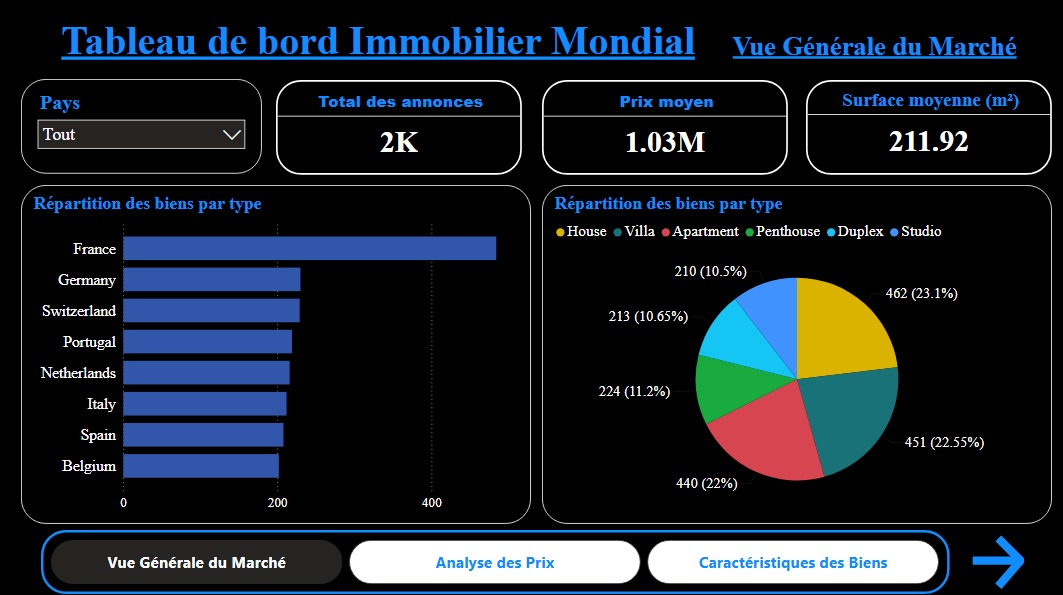

This screenshot's page, from the dashboard's own definition file:
{"tool":"powerbi","page":{"name":"Vue Générale du Marché","canvas":[1280,720],"ordinal":0},"visuals":[{"type":"cardVisual","title":"Total des annonces","fields":{"Data":["Count(FACT_LISTINGS.LISTING_ID)"]},"box":[333.6,97,296.4,114.3],"z":0},{"type":"cardVisual","title":"Surface moyenne (m²)","fields":{"Data":["Avg(FACT_LISTINGS.SURFACE_M2)"]},"box":[971.6,97,296.4,114.3],"z":1000},{"type":"cardVisual","title":"Prix moyen","fields":{"Data":["Avg(FACT_LISTINGS.PRICE)"]},"box":[654,97,296.4,114.3],"z":2000},{"type":"textbox","box":[0,6.6,961,90.4],"z":3000},{"type":"pageNavigator","box":[50.6,639.3,1094.4,77.1],"z":4000},{"type":"pieChart","title":"Répartition des biens par type","fields":{"Category":["DIM_PROPERTY.PROPERTY_TYPE"],"Y":["Count(FACT_LISTINGS.LISTING_ID)"]},"box":[653.8,223.9,614,408.2],"z":5000},{"type":"barChart","title":"Répartition des biens par type","fields":{"Y":["Count(FACT_LISTINGS.LISTING_ID)"],"Category":["DIM_LOCATION.COUNTRY"]},"box":[26.5,223.9,614,408.2],"z":6000},{"type":"actionButton","box":[1134.2,639.3,133.6,77.1],"z":7000},{"type":"textbox","box":[868,22.6,400.1,74.4],"z":8000},{"type":"slicer","fields":{"Values":["DIM_LOCATION.COUNTRY"]},"box":[26.2,96.3,290.4,114.2],"z":9000}]}

Visuals, with their boxes in screenshot pixels (x1, y1, x2, y2), scaled from the page's 1280x720 canvas onto the 1063x595 screenshot:
"Total des annonces" cardVisual: [left=277, top=80, right=523, bottom=175]
"Surface moyenne (m²)" cardVisual: [left=807, top=80, right=1053, bottom=175]
"Prix moyen" cardVisual: [left=543, top=80, right=789, bottom=175]
textbox: [left=0, top=5, right=798, bottom=80]
pageNavigator: [left=42, top=528, right=951, bottom=592]
"Répartition des biens par type" pieChart: [left=543, top=185, right=1053, bottom=522]
"Répartition des biens par type" barChart: [left=22, top=185, right=532, bottom=522]
actionButton: [left=942, top=528, right=1053, bottom=592]
textbox: [left=721, top=19, right=1053, bottom=80]
slicer - DIM_LOCATION.COUNTRY: [left=22, top=80, right=263, bottom=174]
